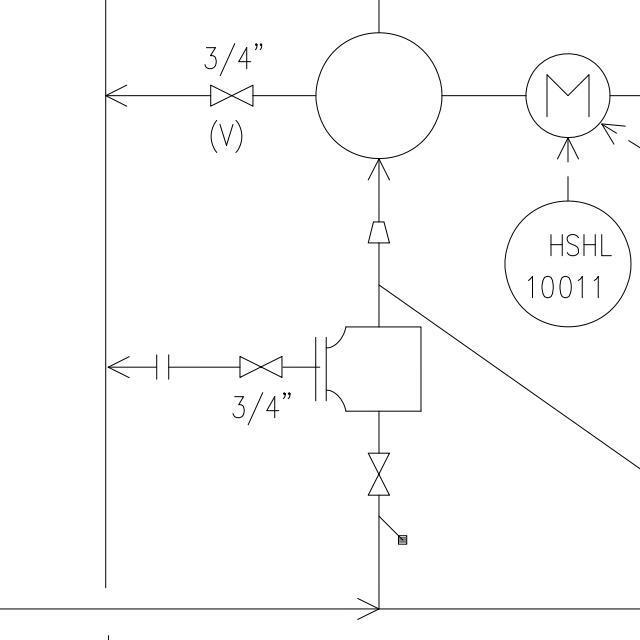GV: (206, 79, 258, 111), (232, 352, 284, 381), (365, 446, 391, 504)
M: (523, 50, 612, 140)
SP: (365, 216, 392, 247)
